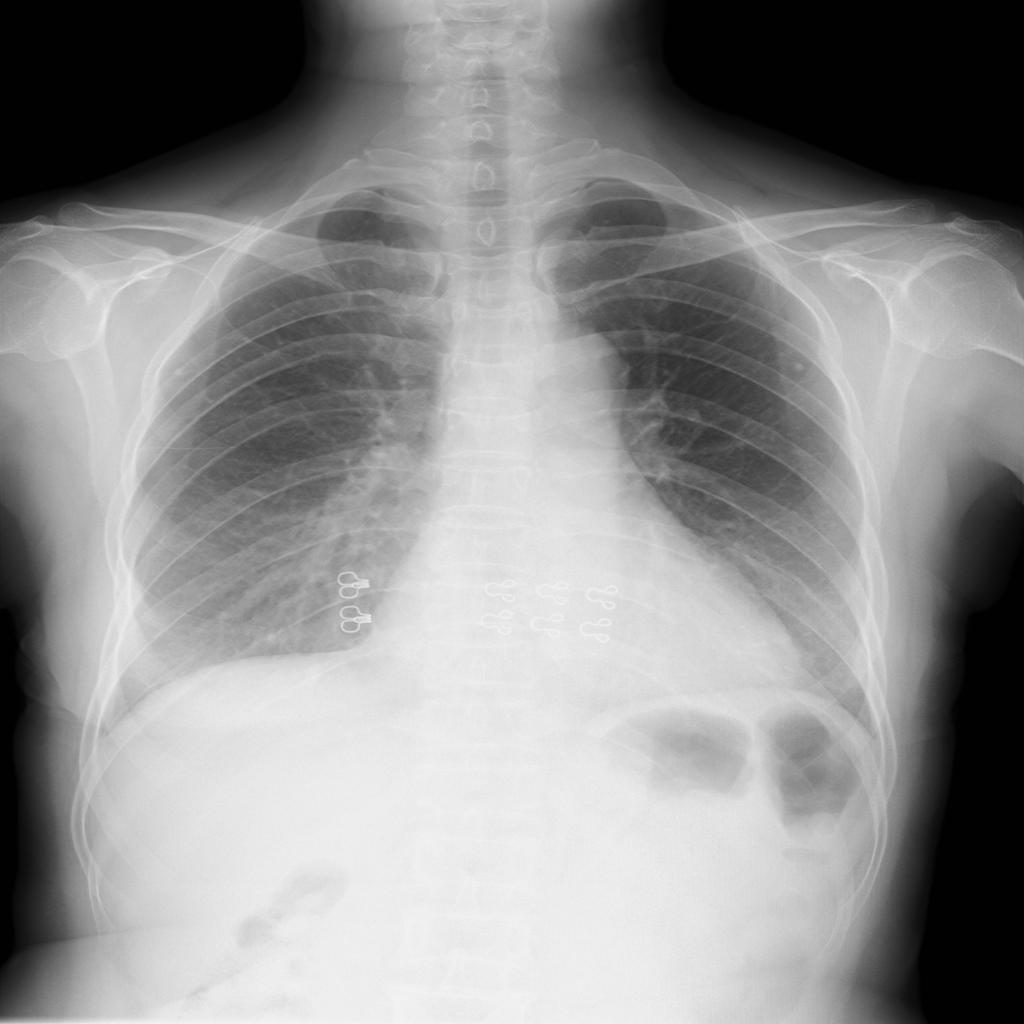Nodule: (791, 361, 805, 371)
